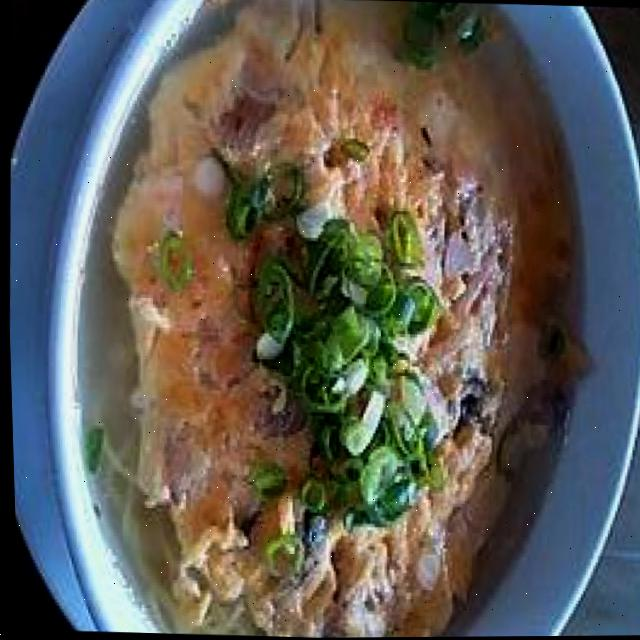面条主食: (69, 0, 632, 640)
